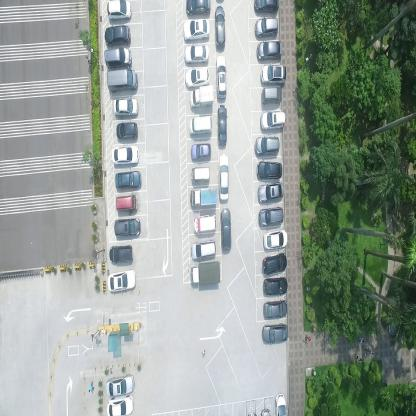car: (190, 260, 221, 287), (106, 68, 137, 93), (107, 266, 136, 291), (105, 373, 134, 397), (183, 17, 211, 40), (110, 144, 140, 165), (190, 238, 216, 262), (262, 322, 288, 346), (260, 108, 286, 132), (190, 184, 217, 207), (105, 394, 133, 416), (263, 252, 288, 276), (105, 23, 132, 45), (258, 182, 285, 204), (190, 83, 214, 107), (218, 152, 230, 200), (257, 40, 283, 62), (258, 206, 284, 228), (113, 216, 141, 236), (255, 18, 280, 40), (261, 64, 286, 86), (263, 229, 288, 251), (220, 207, 232, 252), (104, 46, 131, 66), (114, 169, 141, 189), (185, 65, 210, 86), (188, 113, 213, 134), (263, 300, 288, 321), (113, 95, 138, 116), (263, 277, 289, 297), (255, 136, 281, 156), (106, 0, 133, 19), (215, 3, 226, 49), (185, 42, 209, 63), (193, 213, 217, 234), (108, 242, 133, 262), (216, 53, 227, 98), (257, 162, 283, 181), (116, 120, 138, 140), (115, 192, 137, 212), (218, 102, 228, 144), (192, 140, 212, 160), (253, 0, 279, 15), (185, 0, 211, 15), (262, 87, 282, 106), (191, 164, 211, 182), (274, 394, 286, 415)
